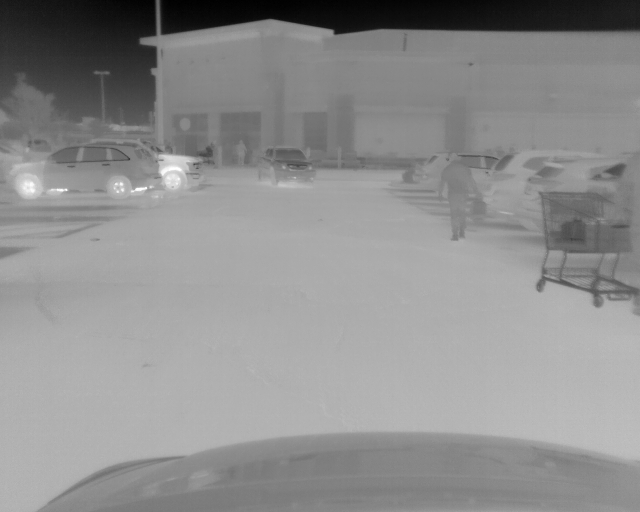car: (521, 161, 640, 245), (481, 149, 598, 229), (11, 142, 160, 200), (98, 138, 206, 196), (421, 153, 502, 196), (258, 147, 316, 188)
people: (439, 152, 481, 243)
